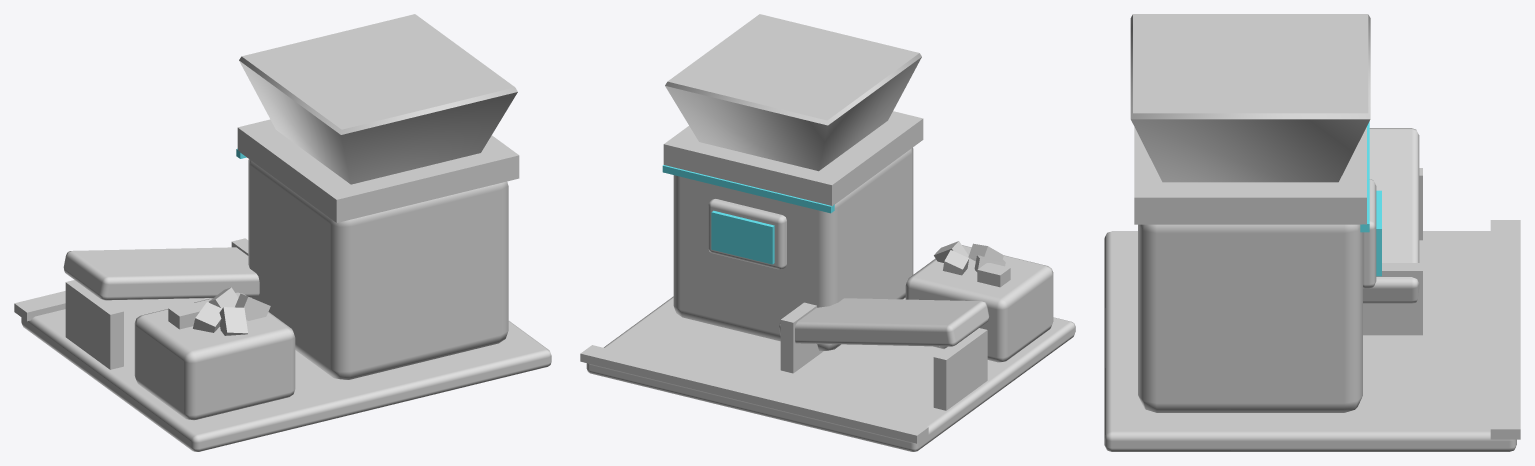
File: RecyclerStation.glb
The picture shows the model from 3 angles, left to right: view 1: azimuth 30°, elevation 25°; view 2: azimuth 150°, elevation 25°; view 3: azimuth 270°, elevation 25°; orthographic projection. The views are drawn at different scales.
Visible parts, largest first — view 1: Body; view 2: Body, Glow; view 3: Body, Glow.
Boxes of the visible parts, x1,y1,x2,y2 form: Body: (14, 14, 551, 451); Body: (580, 14, 1075, 451); Glow: (662, 165, 834, 264); Body: (1104, 14, 1520, 451); Glow: (1360, 121, 1381, 276).
Size of the model in its own units: 13.2 by 9.6 by 11.1.
